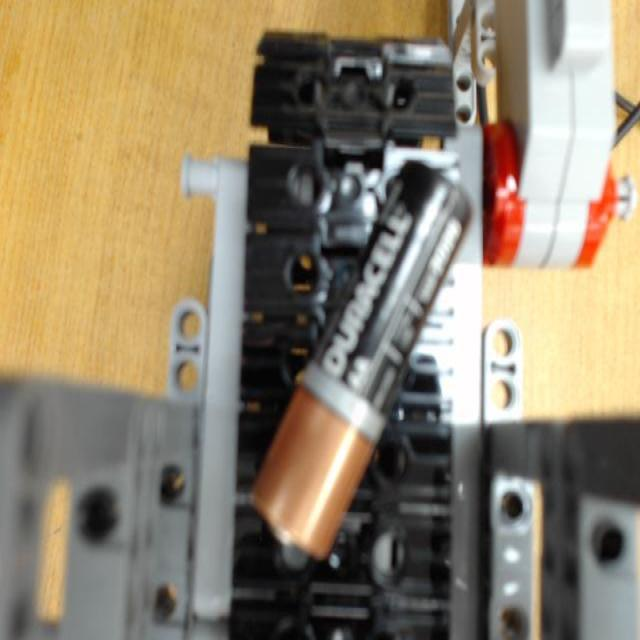AA: (250, 154, 472, 559)
